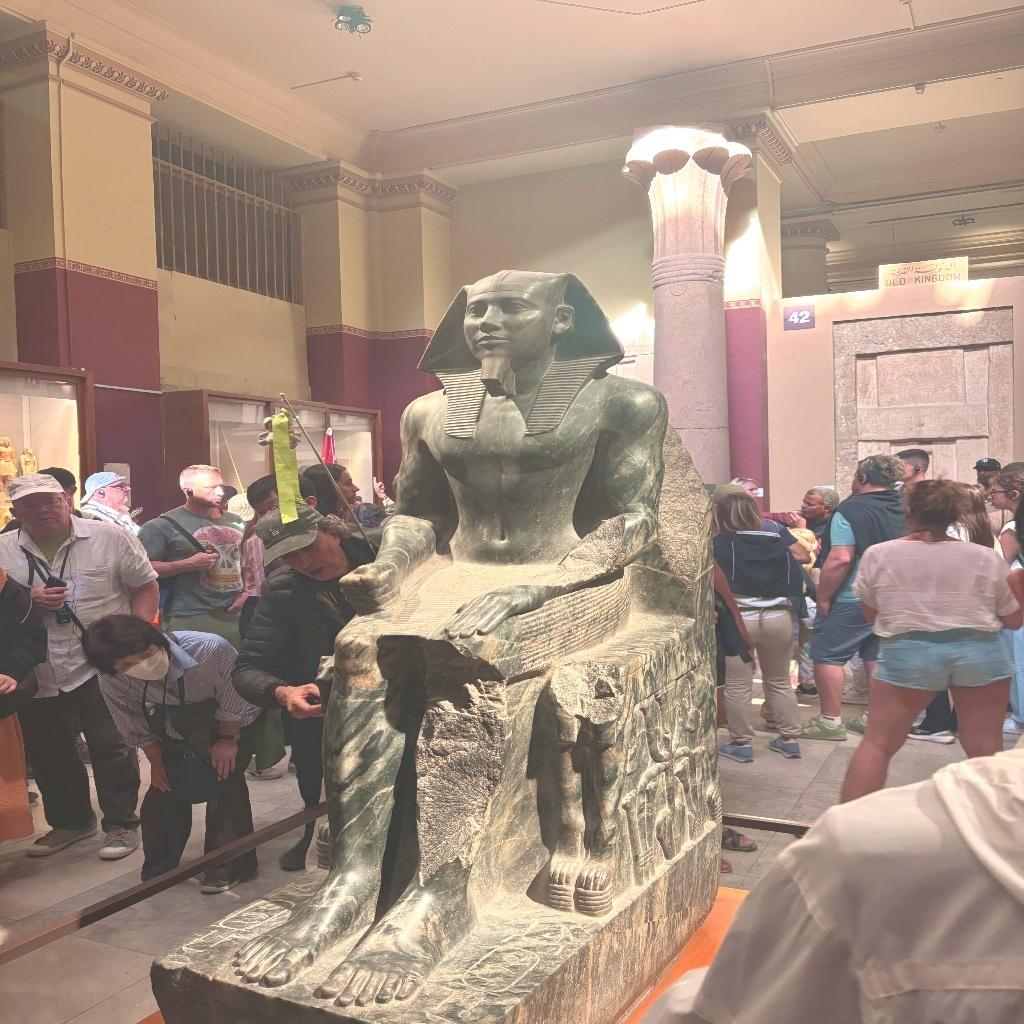Statue of Khafre: (150, 272, 694, 1014)
